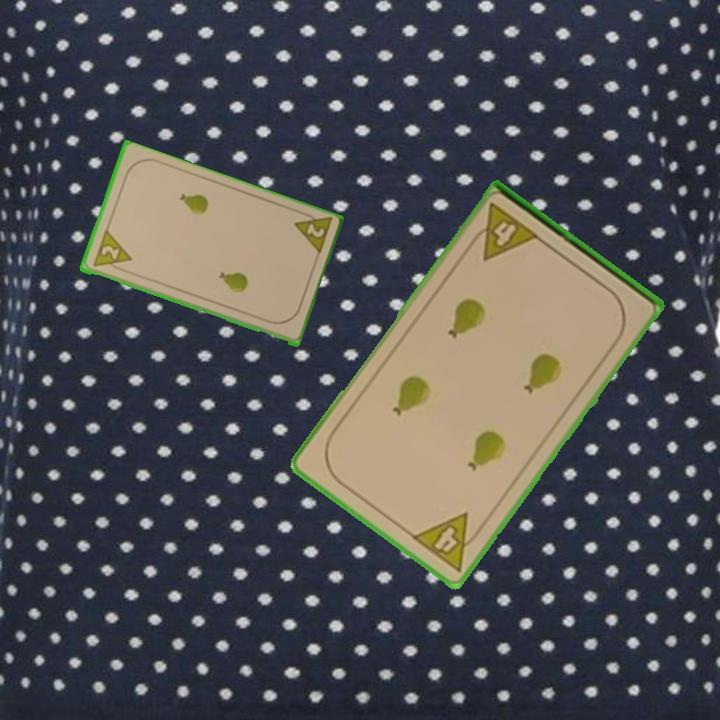2p: (290, 207, 335, 259), (88, 228, 134, 274)
4p: (407, 509, 488, 575), (464, 199, 543, 264)
